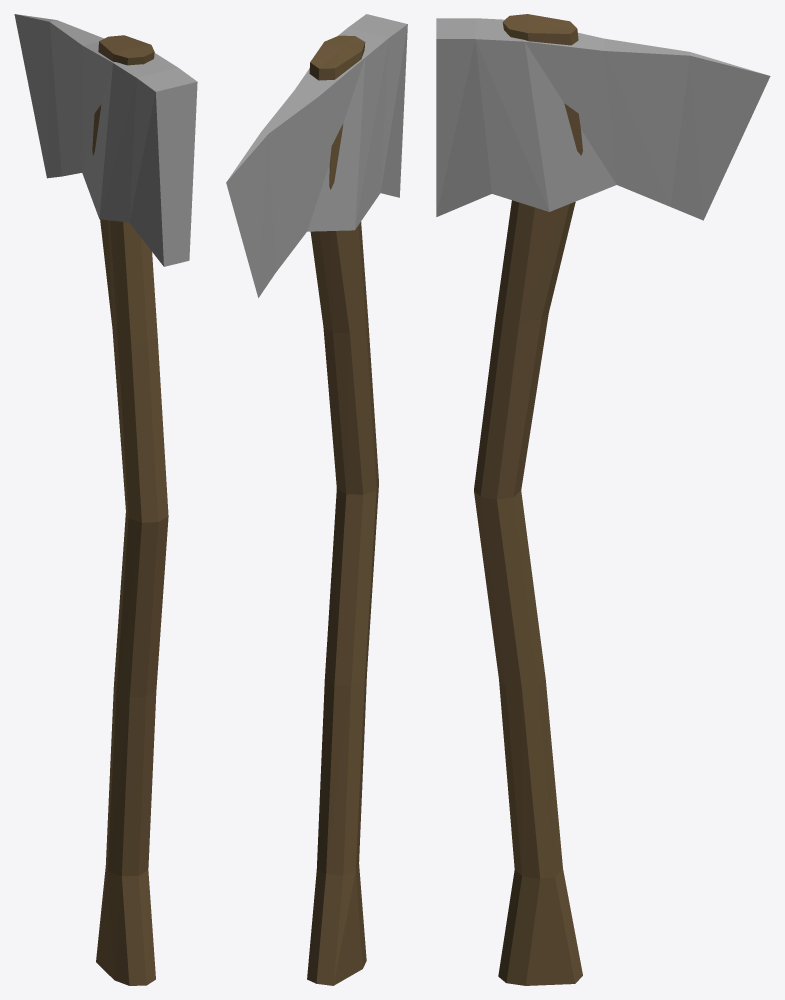
Rendered from simple_axe.fbx.
The picture shows the model from 3 angles, left to right: view 1: azimuth 30°, elevation 25°; view 2: azimuth 150°, elevation 25°; view 3: azimuth 270°, elevation 25°; orthographic projection. The views are drawn at different scales.
Visible parts, largest first — view 1: polySurface2; view 2: polySurface2; view 3: polySurface2.
Boxes of the visible parts, <box> form: polySurface2: <box>14,14,197,985</box>; polySurface2: <box>226,14,407,985</box>; polySurface2: <box>436,14,770,985</box>.
Bounding box in the file's own units: 0.2044 × 4.05 × 1.28.
